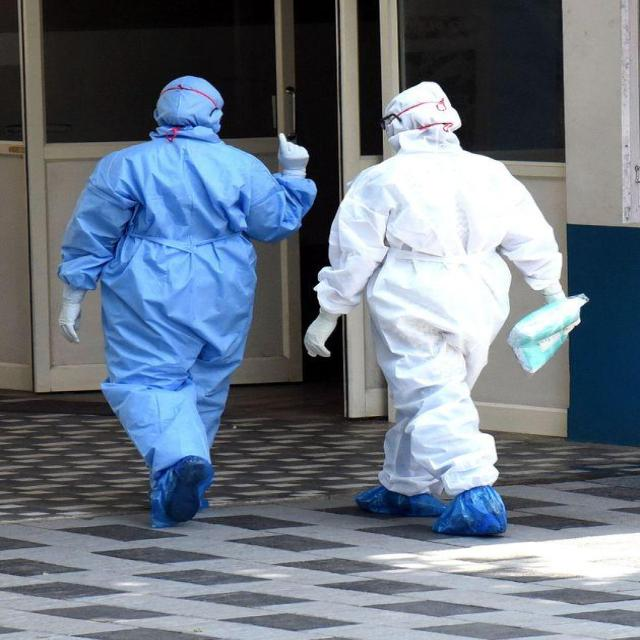Coverall: (301, 79, 564, 538), (58, 76, 314, 529)
Gloves: (301, 308, 345, 359), (55, 287, 87, 345), (276, 131, 310, 177)
